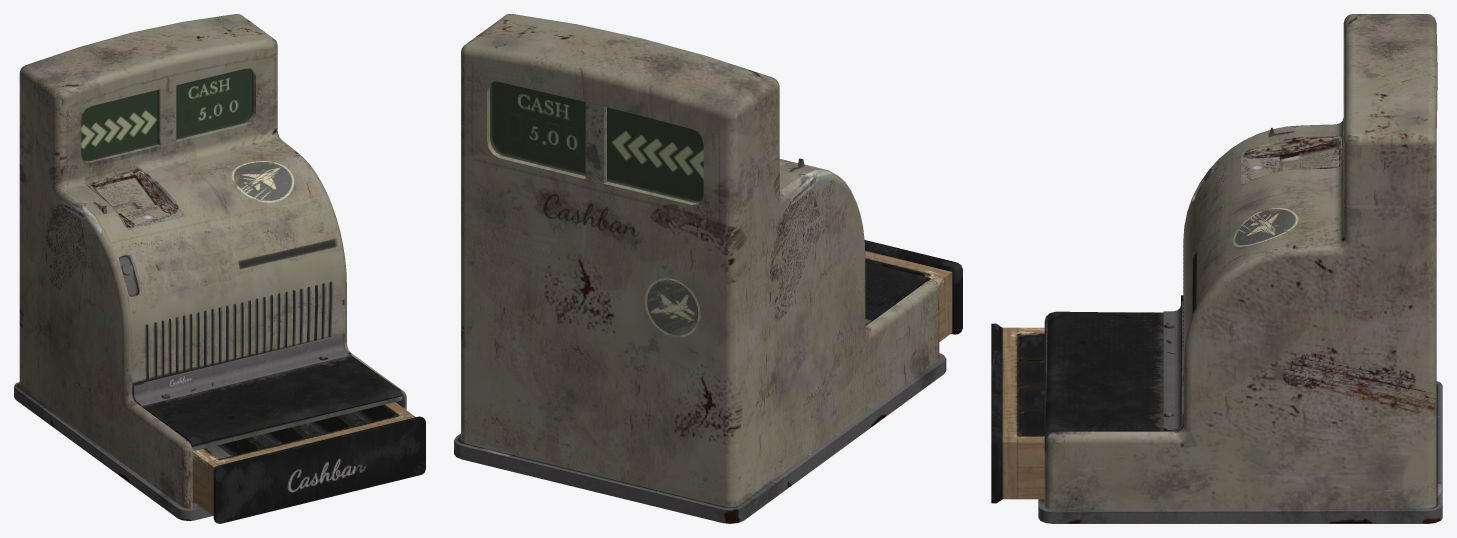
The model's file is cash_register.fbx.
The picture shows the model from 3 angles, left to right: view 1: azimuth 30°, elevation 25°; view 2: azimuth 150°, elevation 25°; view 3: azimuth 270°, elevation 25°; orthographic projection. The views are drawn at different scales.
Parts seen in each view (by area): view 1: Cash_Final; view 2: Cash_Final; view 3: Cash_Final.
Boxes of the visible parts, left/top/right/bottom form: Cash_Final: left=14, top=14, right=425, bottom=523; Cash_Final: left=454, top=14, right=962, bottom=523; Cash_Final: left=991, top=14, right=1442, bottom=523.
Size of the model in its own units: 30.2 by 41.86 by 43.77.
